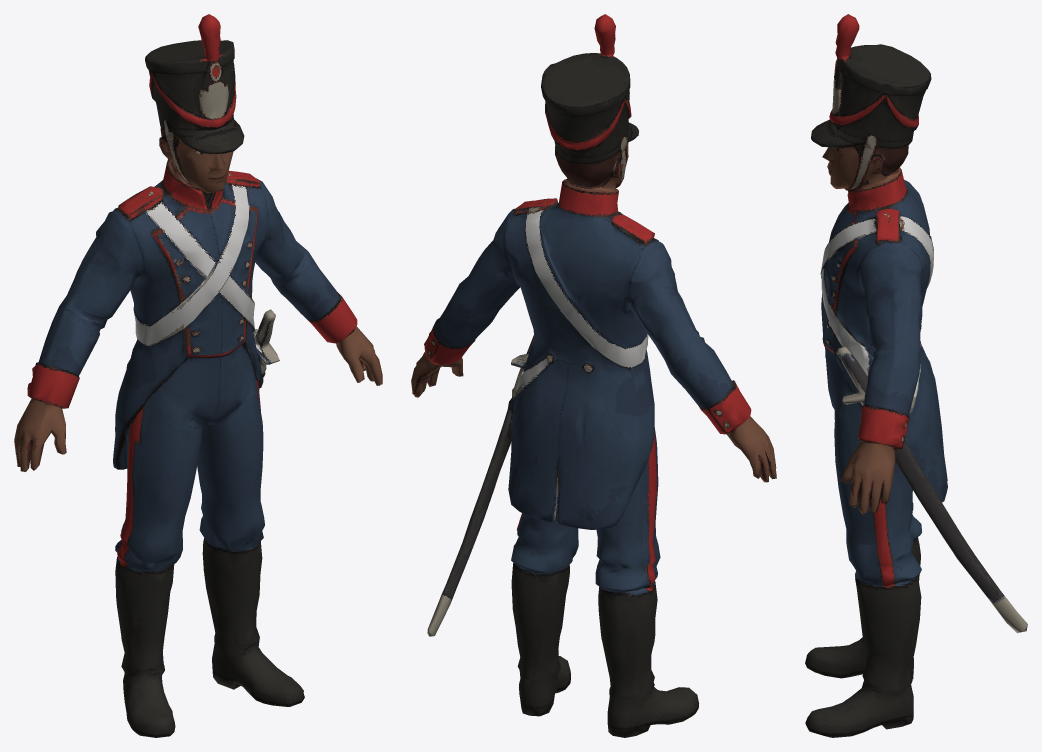
File: cabral.glb
The picture shows the model from 3 angles, left to right: view 1: azimuth 30°, elevation 25°; view 2: azimuth 150°, elevation 25°; view 3: azimuth 270°, elevation 25°; orthographic projection.
Parts seen in each view (by area): view 1: tripo_node_1055043b-0dbc-4ca1-bd88-0bfe24cfdfa6; view 2: tripo_node_1055043b-0dbc-4ca1-bd88-0bfe24cfdfa6; view 3: tripo_node_1055043b-0dbc-4ca1-bd88-0bfe24cfdfa6.
Part boxes in pixels (box(x1,y1,x2,y2)): tripo_node_1055043b-0dbc-4ca1-bd88-0bfe24cfdfa6: box(14, 14, 382, 737); tripo_node_1055043b-0dbc-4ca1-bd88-0bfe24cfdfa6: box(411, 14, 776, 737); tripo_node_1055043b-0dbc-4ca1-bd88-0bfe24cfdfa6: box(805, 14, 1027, 737).
Size of the model in its own units: 0.5457 by 1 by 0.2945.
1 material, 1 textured.
